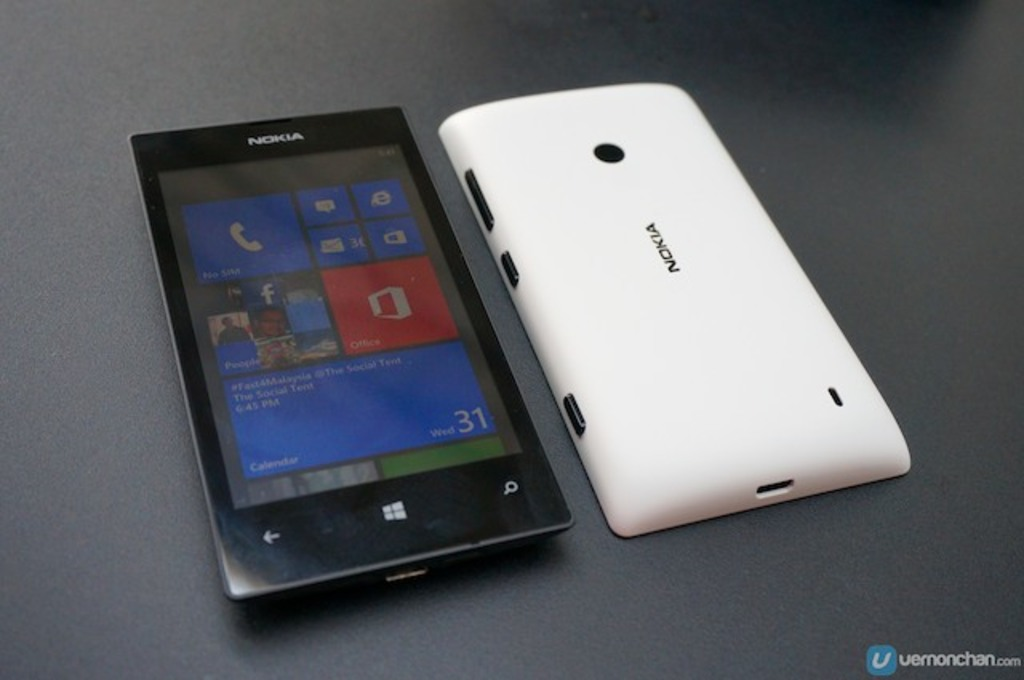mobile phone: (123, 105, 576, 601), (446, 97, 897, 515)
